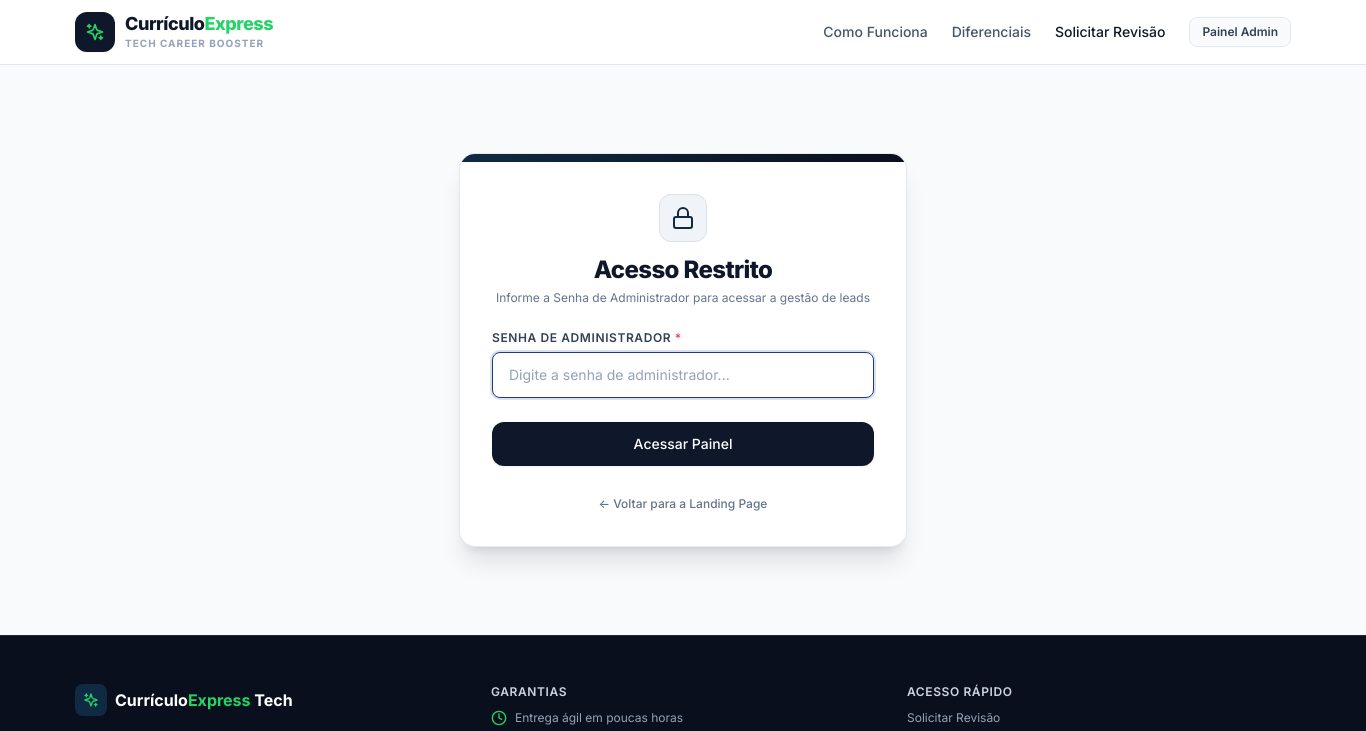
Test: Admin Authentication and Lead Deletion Features › Feature 1: Simple Admin Authentication (/admin access gate) › rejects incorrect password with clear error feedback
Step 1. Type "wrong-pass" into the password field labelled "Senha de Administrador *" → {"x": 683, "y": 375}, box x1=492 y1=352 x2=874 y2=398
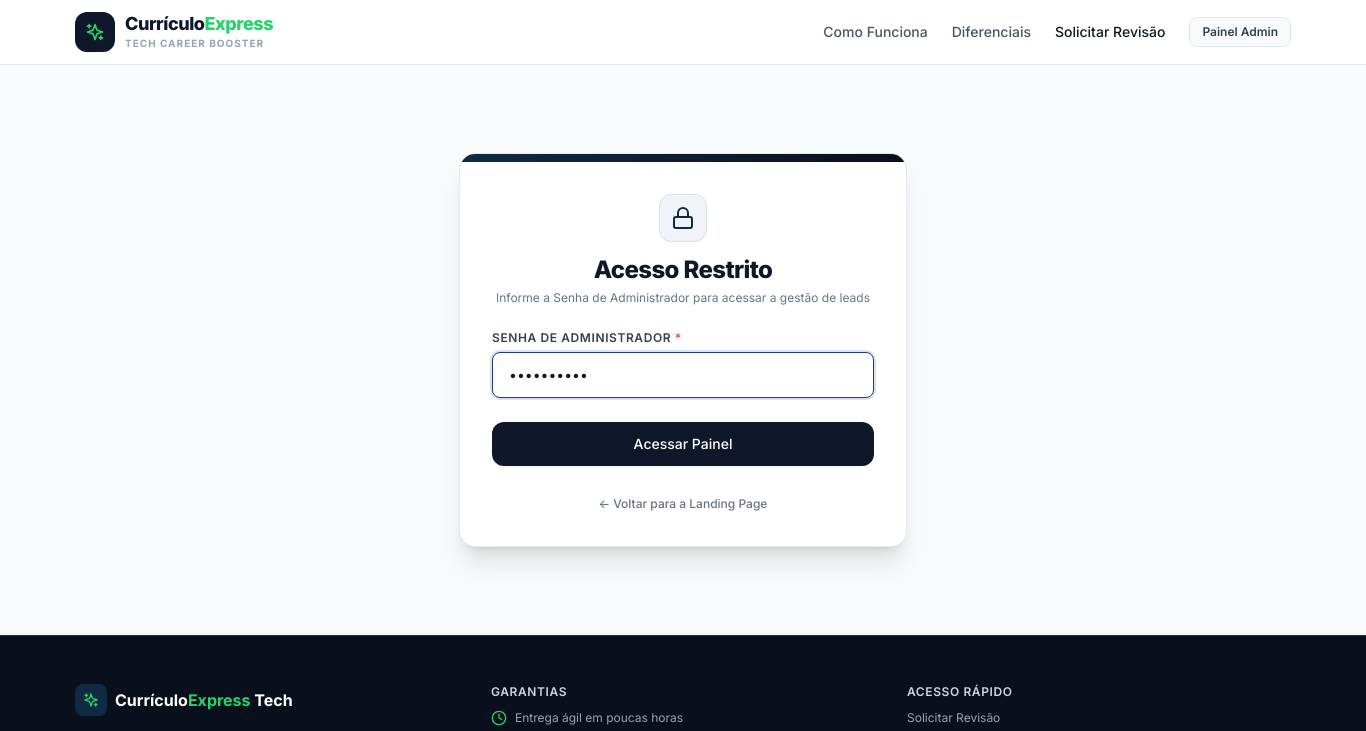
Step 2. Click the button "Acessar Painel" → {"x": 683, "y": 444}, box x1=492 y1=422 x2=874 y2=466
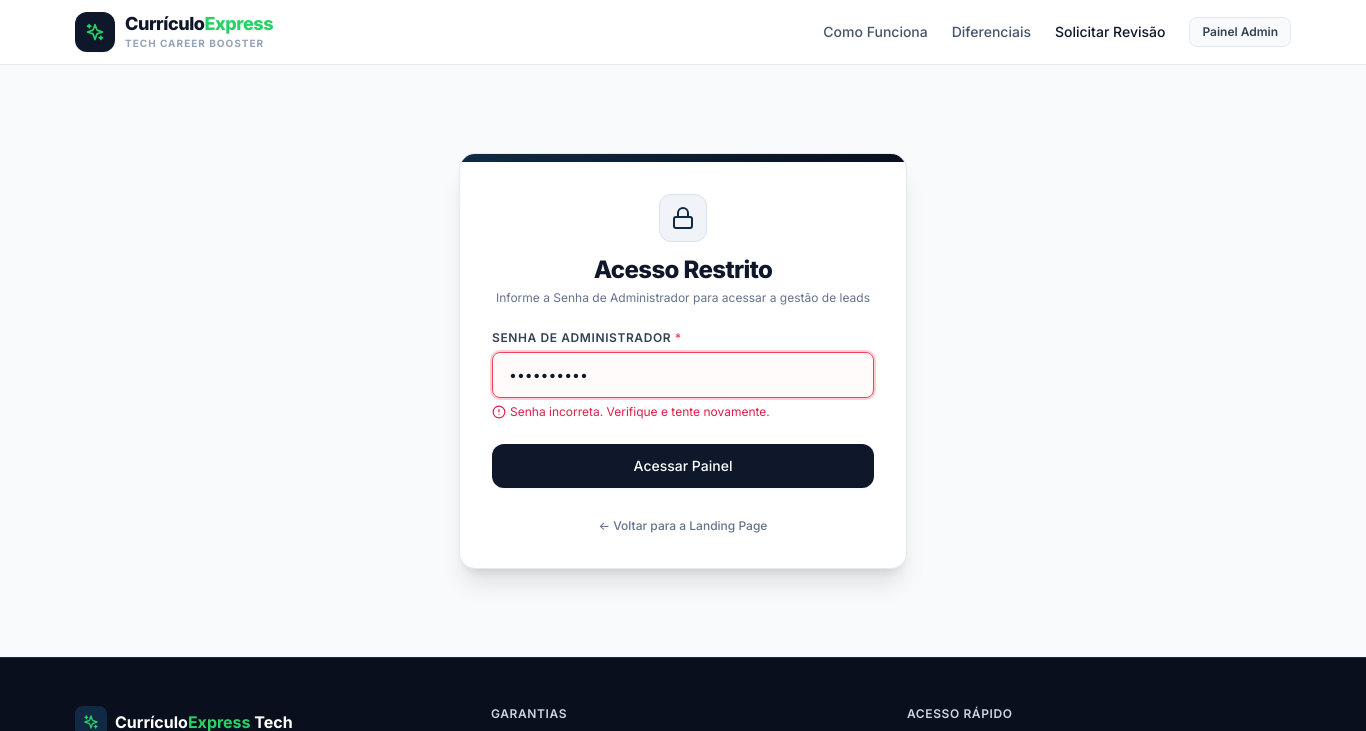
expect the text "Senha incorreta. Verifique e tente novamente." is shown: met, box x1=510 y1=404 x2=770 y2=420
